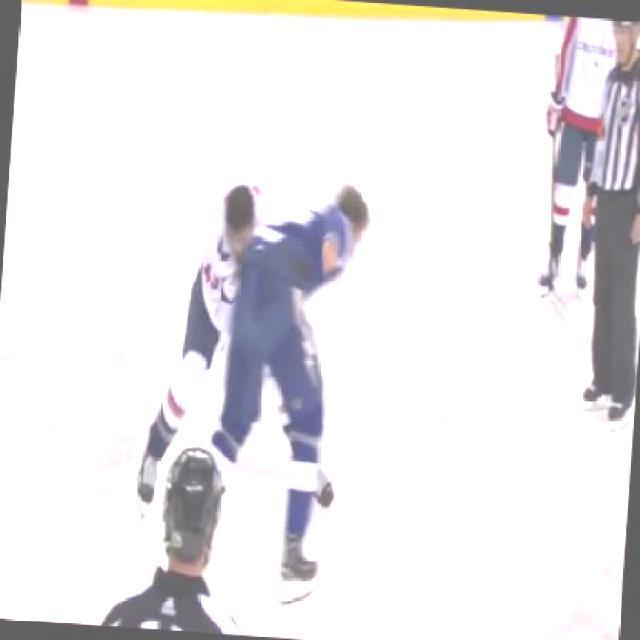fight: (152, 160, 380, 512)
non-fight: (566, 18, 639, 440)
